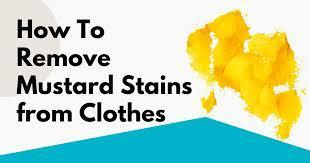lipstick: (183, 20, 298, 79), (218, 71, 301, 107), (212, 7, 251, 52), (276, 100, 301, 142), (248, 99, 281, 120), (199, 88, 219, 112)
